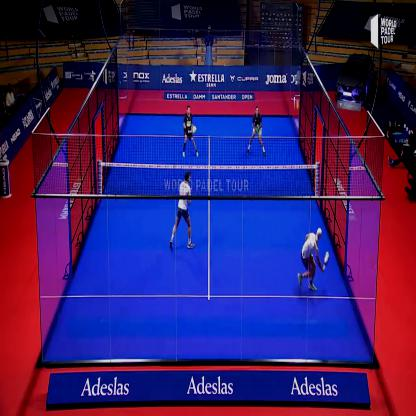ball: (294, 95, 301, 112)
